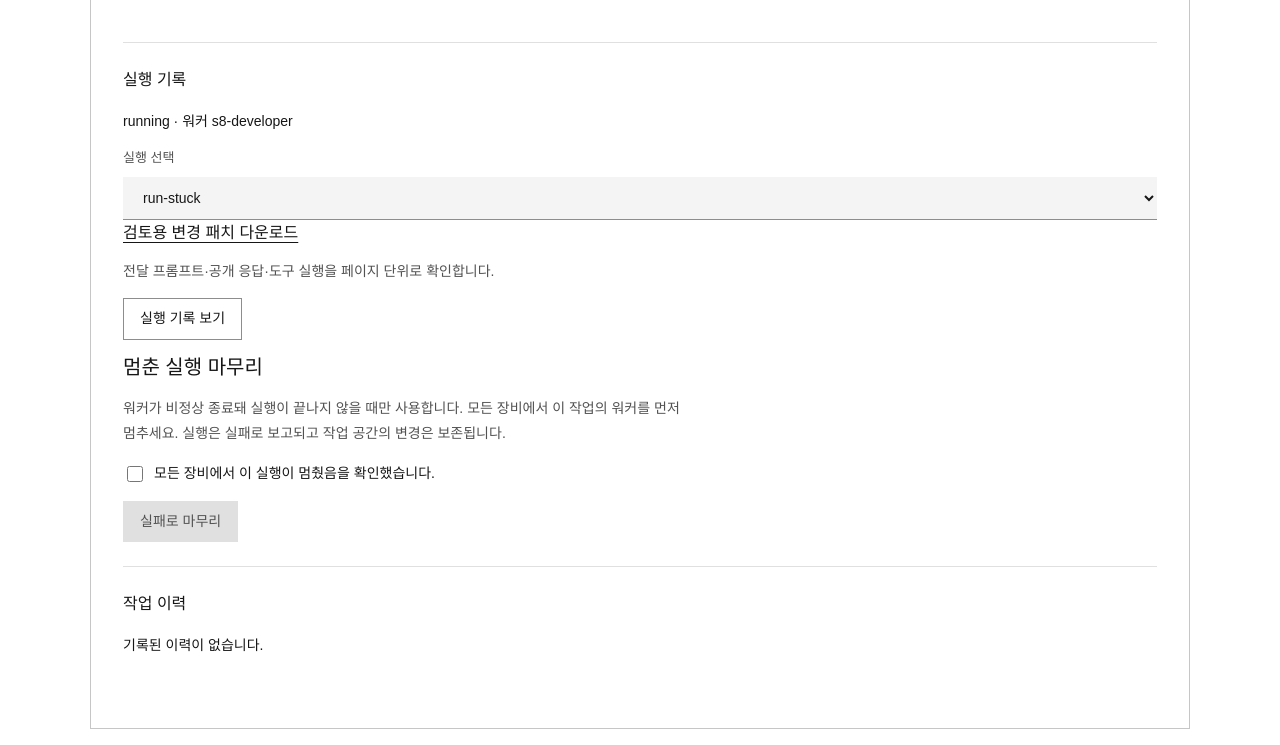
Test case: a stopped doing run can be finished as failed only after explicit confirmation, and refusals stay visible
This screenshot has width=1280, height=745.
(page scrolled)
Expected: the button "실패로 마무리" is disabled, [123, 501, 238, 542]
Click the checkbox labelled "모든 장비에서 이 실행이 멈췄음을 확인했습니다." at (135, 474), box [127, 466, 143, 482]
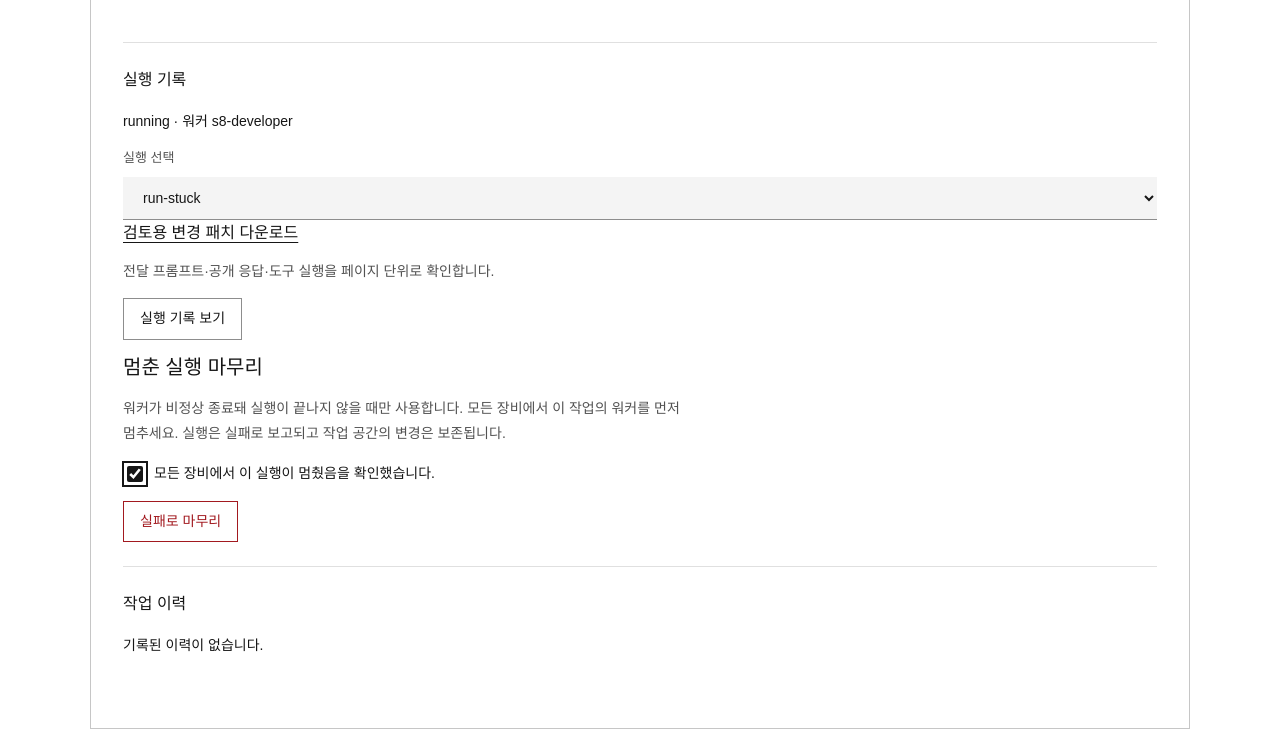
Click the button "실패로 마무리" at (181, 522), box [123, 501, 238, 542]
(page scrolled)
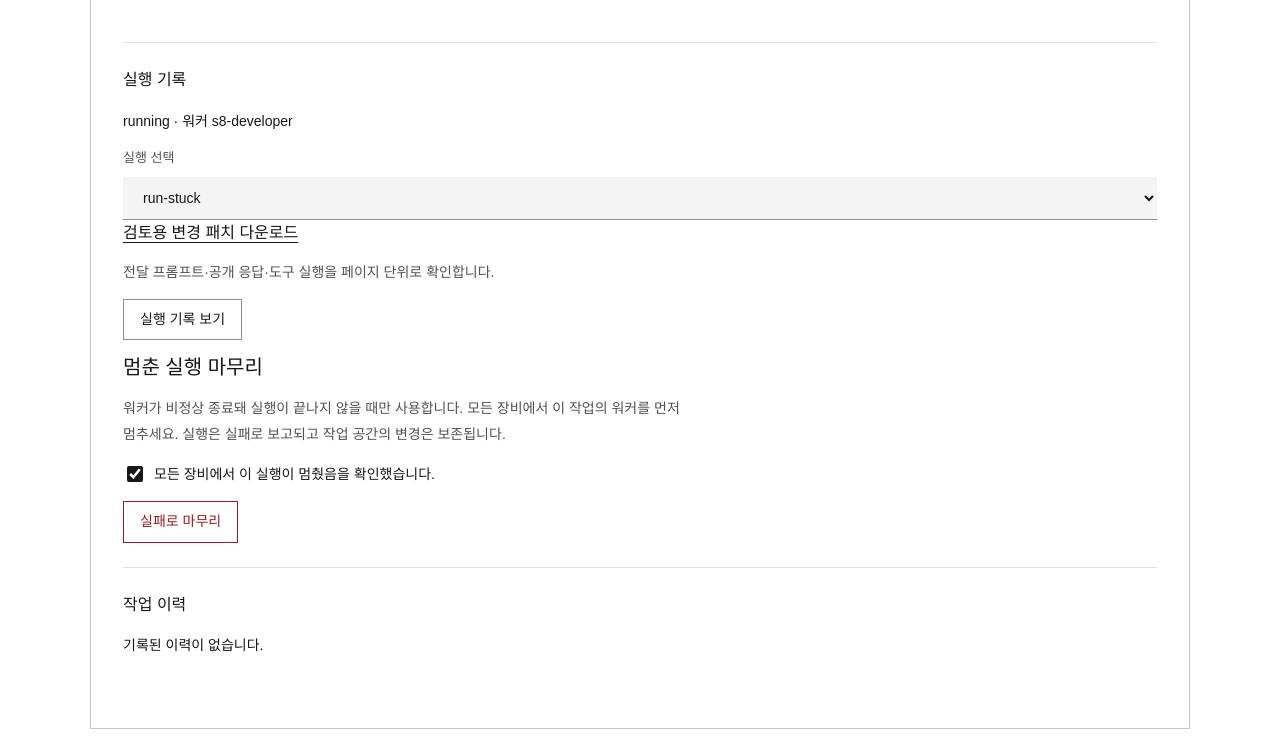
Click the button "실패로 마무리" at (181, 522), box [123, 501, 238, 543]
(page scrolled)
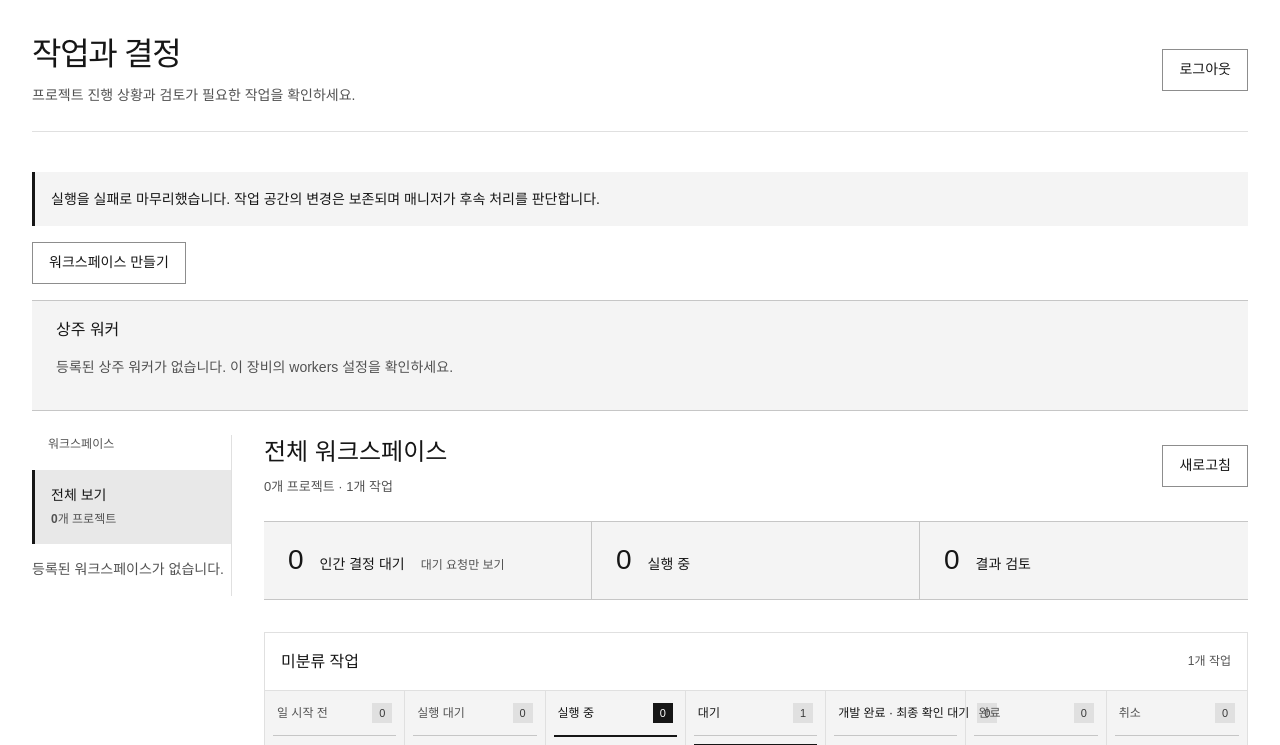
Expected: the message shows "실행을 실패로 마무리했습니다.", [51, 191, 600, 207]
